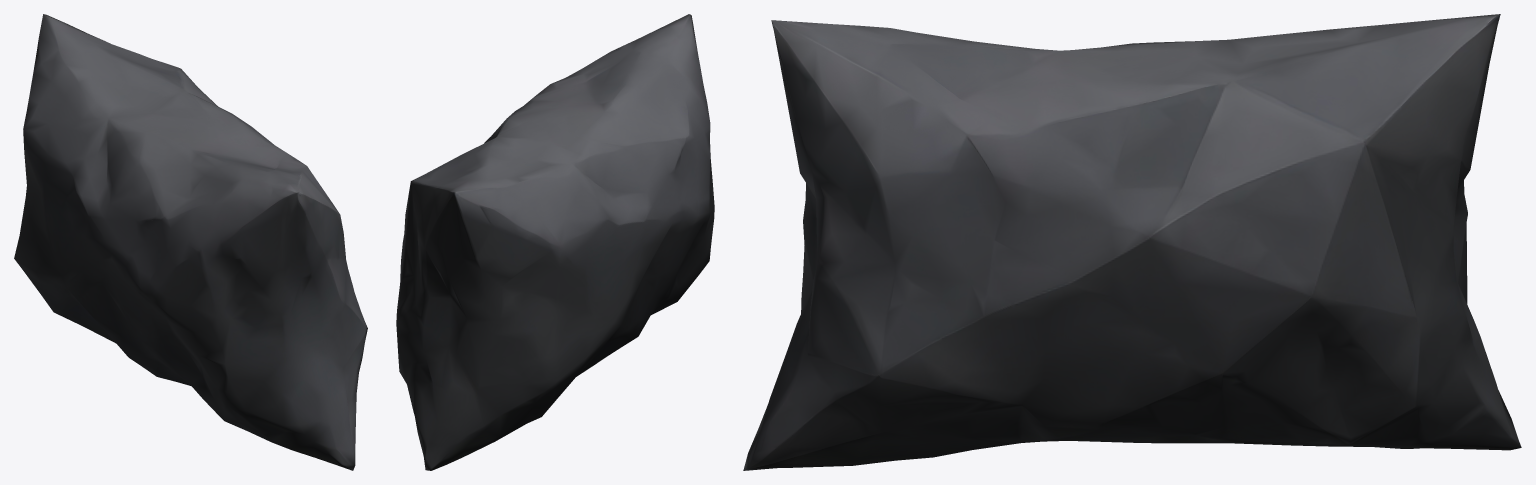
Rendered from faceted+pillow+3d+model.glb.
3 renders of one model, left to right at view 1: azimuth 30°, elevation 25°; view 2: azimuth 150°, elevation 25°; view 3: azimuth 270°, elevation 25°, orthographic. The views are drawn at different scales.
Visible parts, largest first — view 1: tripo_node_fe283f49-ae80-41bf-ba38-cfc62167a2bc; view 2: tripo_node_fe283f49-ae80-41bf-ba38-cfc62167a2bc; view 3: tripo_node_fe283f49-ae80-41bf-ba38-cfc62167a2bc.
Boxes of the visible parts, x1=… form: tripo_node_fe283f49-ae80-41bf-ba38-cfc62167a2bc: x1=14, y1=14, x2=367, y2=470; tripo_node_fe283f49-ae80-41bf-ba38-cfc62167a2bc: x1=396, y1=14, x2=714, y2=470; tripo_node_fe283f49-ae80-41bf-ba38-cfc62167a2bc: x1=743, y1=14, x2=1521, y2=470.
Bounding box in the file's own units: 0.4319 × 0.5965 × 1.
Materials: 1 (1 with a texture image).
